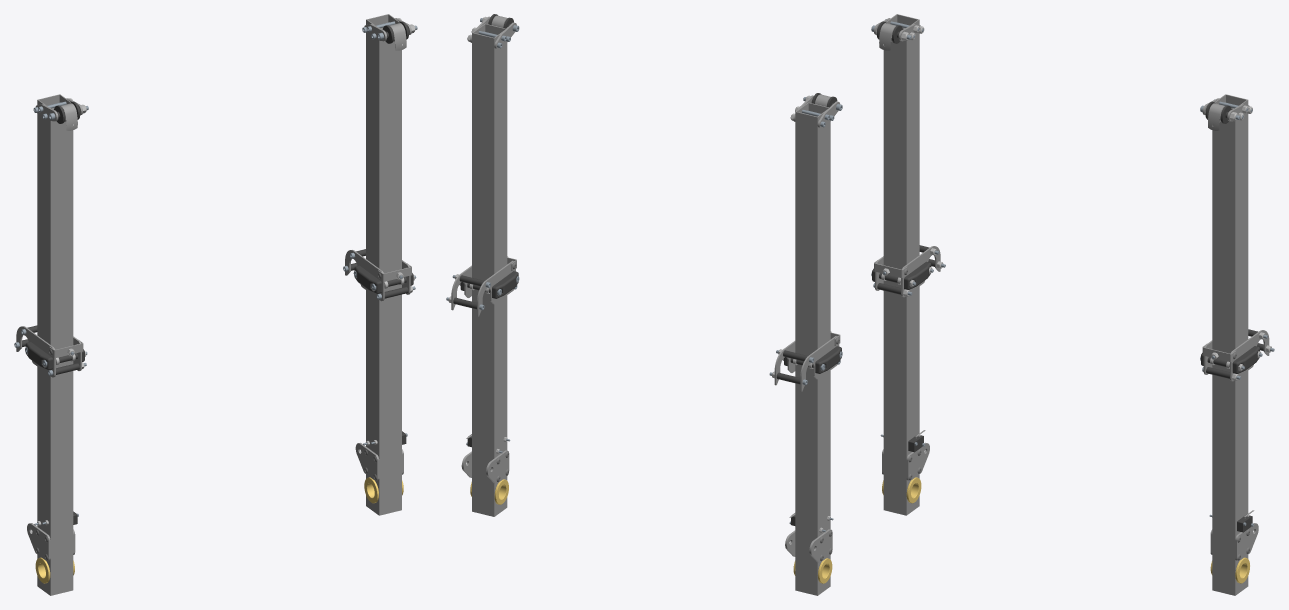
File: model_1_old.glb
3 views of the same model, side by side, from view 1: azimuth 30°, elevation 25°; view 2: azimuth 150°, elevation 25°; view 3: azimuth 330°, elevation 25° (orthographic).
Visible parts, largest first — view 1: CT02 (×2), CA01 (×2), CA04 (×2); view 2: CT02 (×2), CA01 (×2); view 3: CT02 (×2), CA01 (×2).
Boxes of the visible parts, box(x1,y1,x2,y2) form: CT02 (×2): box(37, 14, 401, 595); CA01 (×2): box(16, 250, 384, 377); CA04 (×2): box(27, 443, 379, 561); CT02 (×2): box(472, 23, 830, 595); CA01 (×2): box(477, 260, 839, 391); CT02 (×2): box(883, 14, 1248, 595); CA01 (×2): box(901, 246, 1269, 381).
Size of the model in its own units: 0.623 by 0.7874 by 0.1241.
